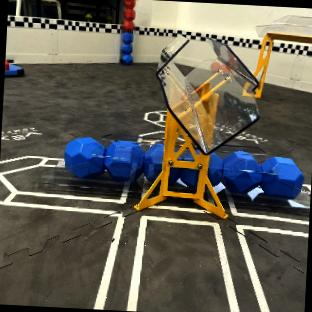Goal: (134, 38, 258, 218)
V5_BLUE: (208, 150, 303, 200), (64, 137, 142, 180), (143, 142, 163, 181), (121, 30, 133, 62)
